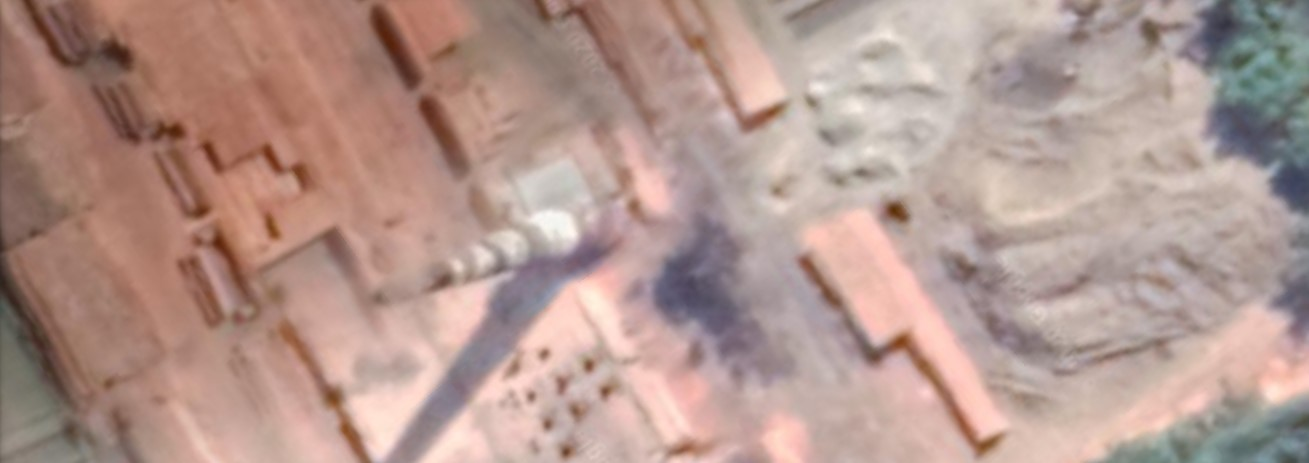kiln: (201, 15, 643, 463)
